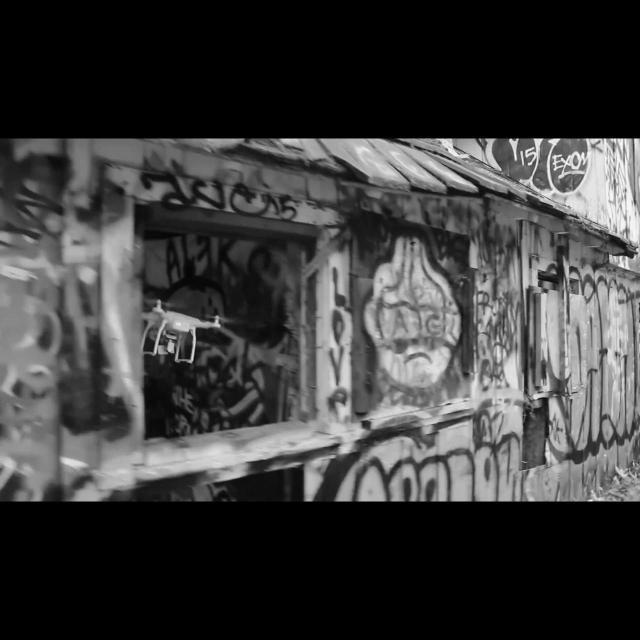Drons: (121, 290, 238, 372)
